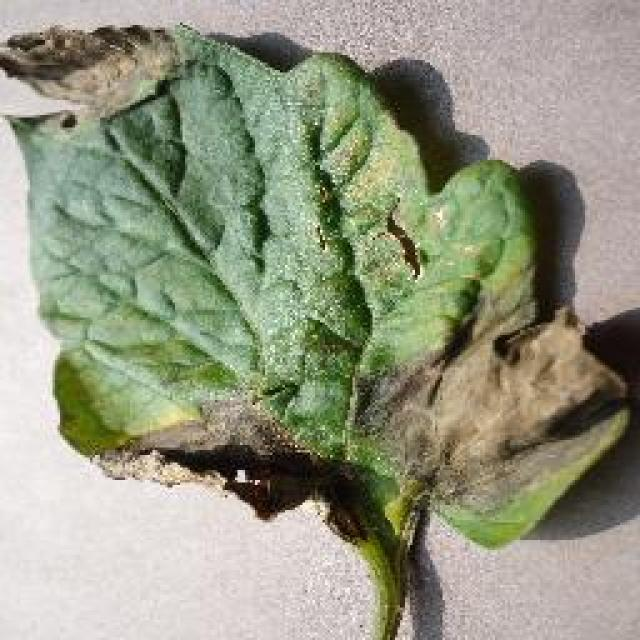Tomato Late Blight: (17, 27, 585, 525)
